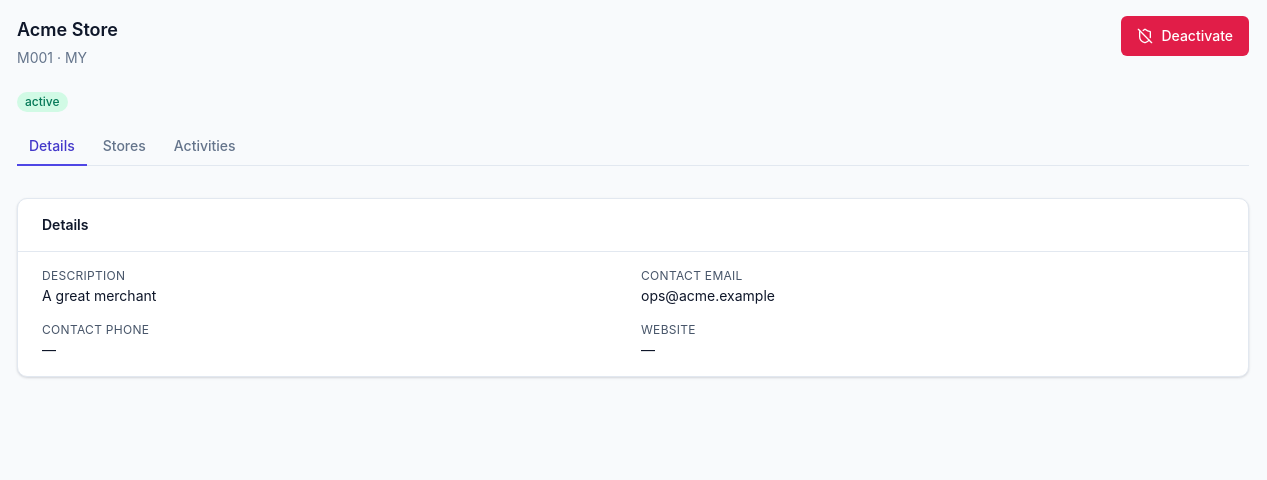
MerchantDetailPage › shows the empty and loading states for the Stores tab
Click the tab "Stores" at (124,147), box [91,128,158,166]
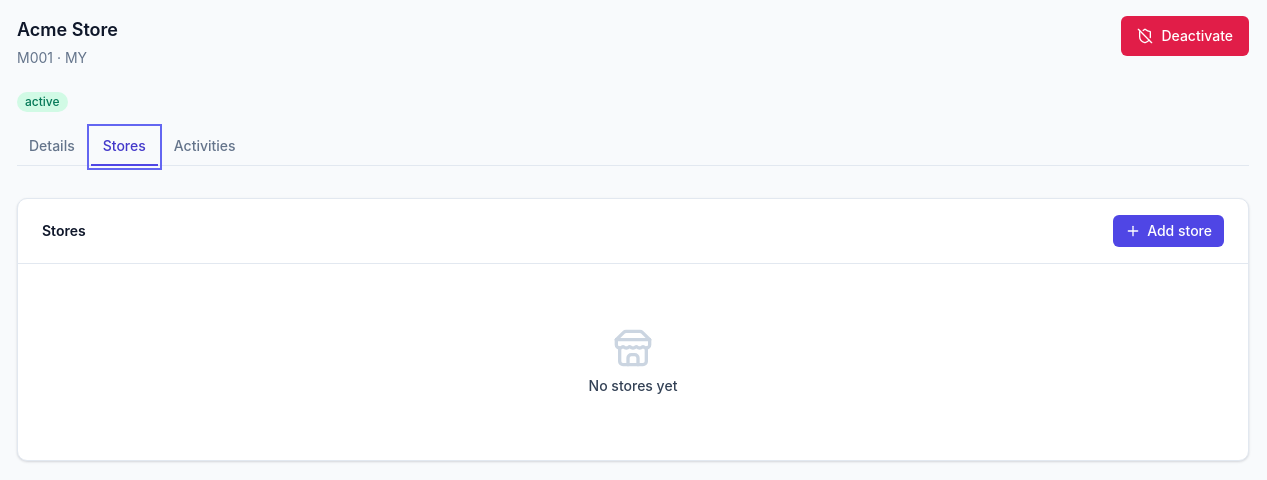
Expected: the text "No stores yet" is shown, [589,376,677,396]
